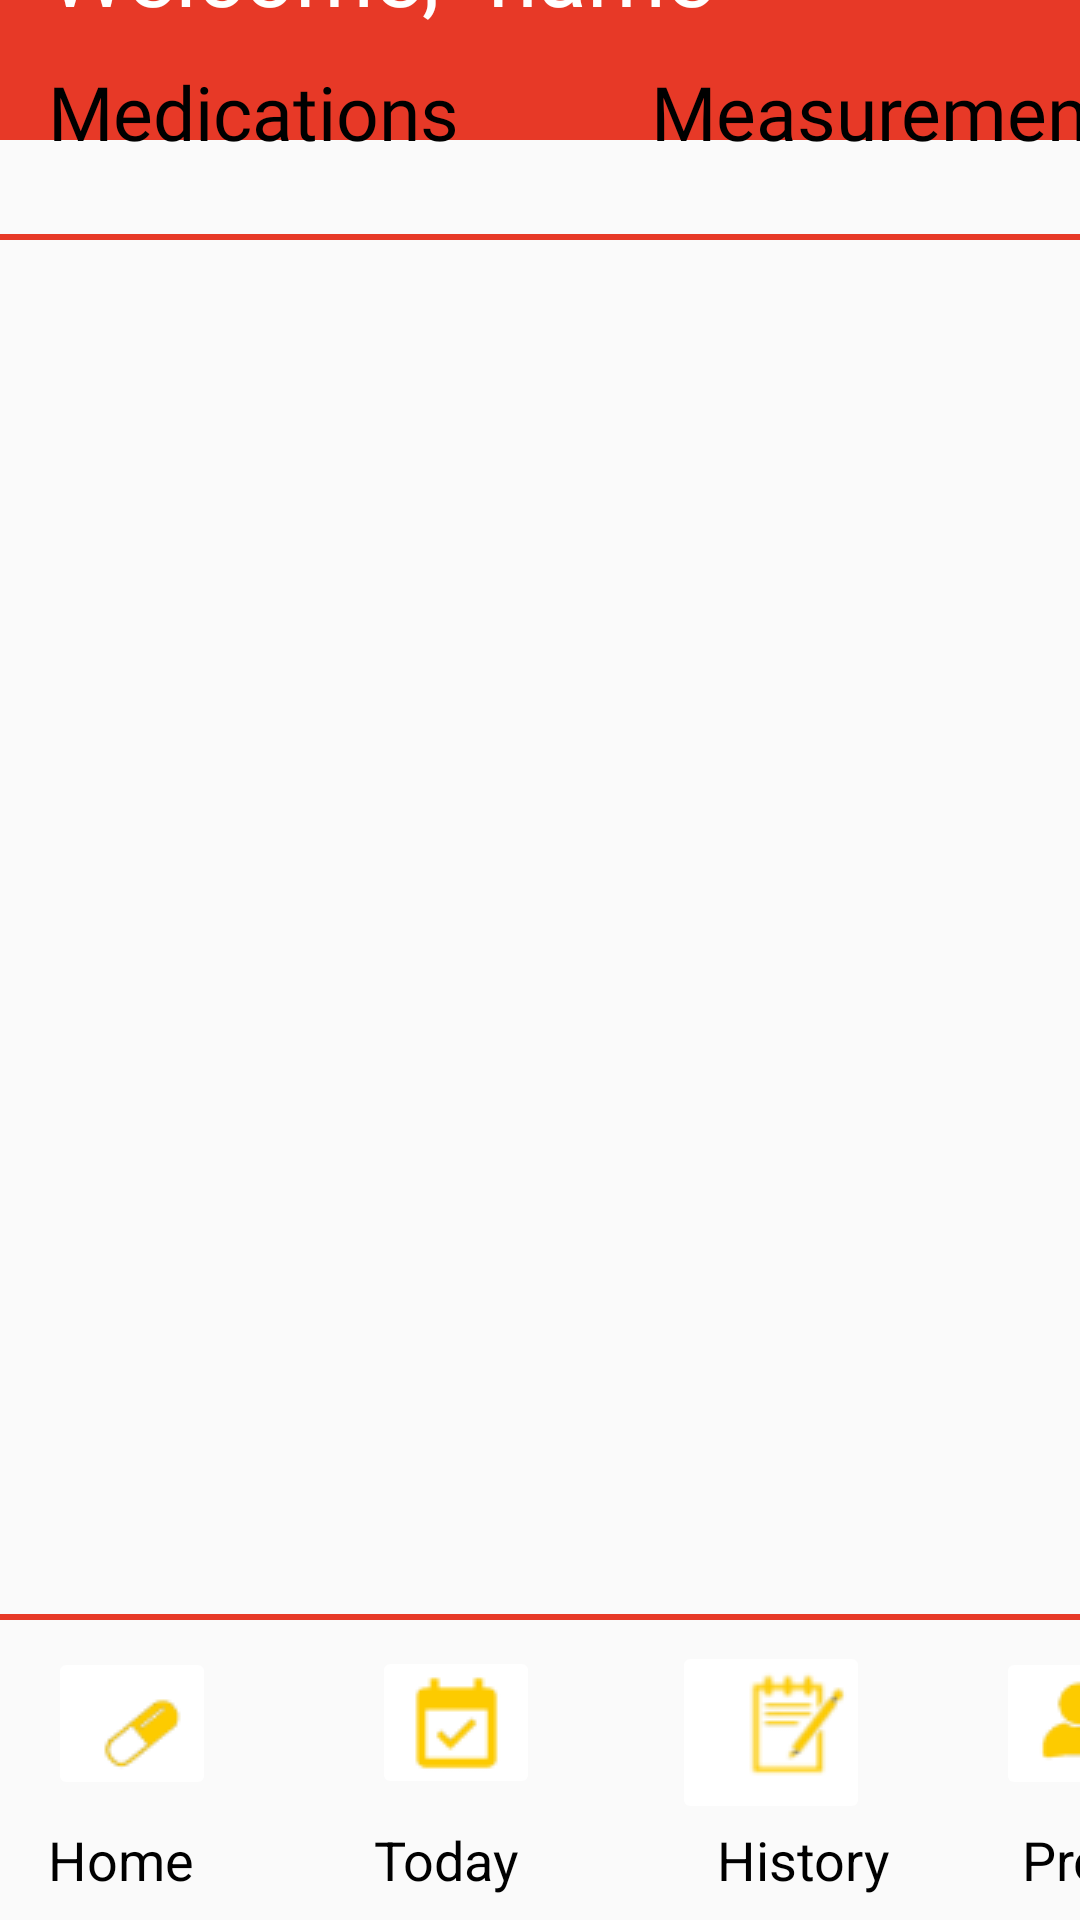

Where to tap for icons on this 1080 x 1920 app screen, as [x,y]:
calendarr: [456,1723]
